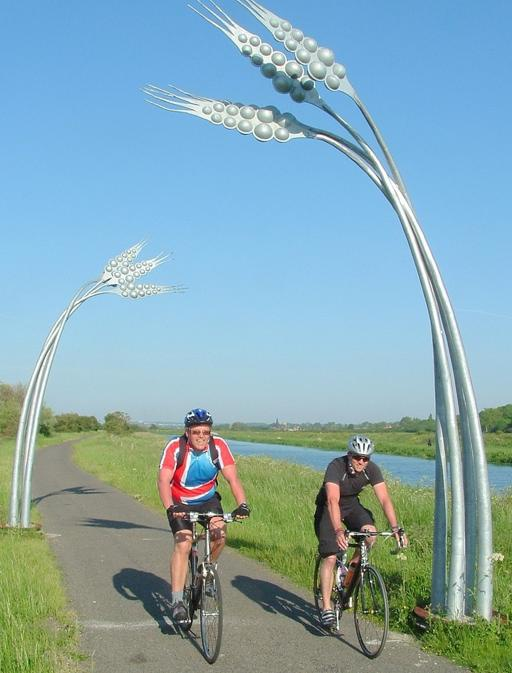non-vehicle: (311, 524, 408, 660), (171, 507, 247, 665)
